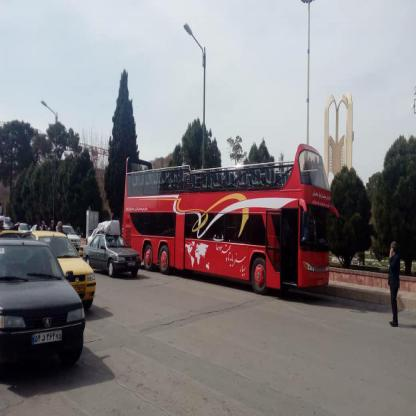Bus: (120, 146, 333, 304)
Car: (0, 229, 87, 370), (39, 221, 96, 299), (83, 221, 140, 280), (60, 218, 76, 249)
